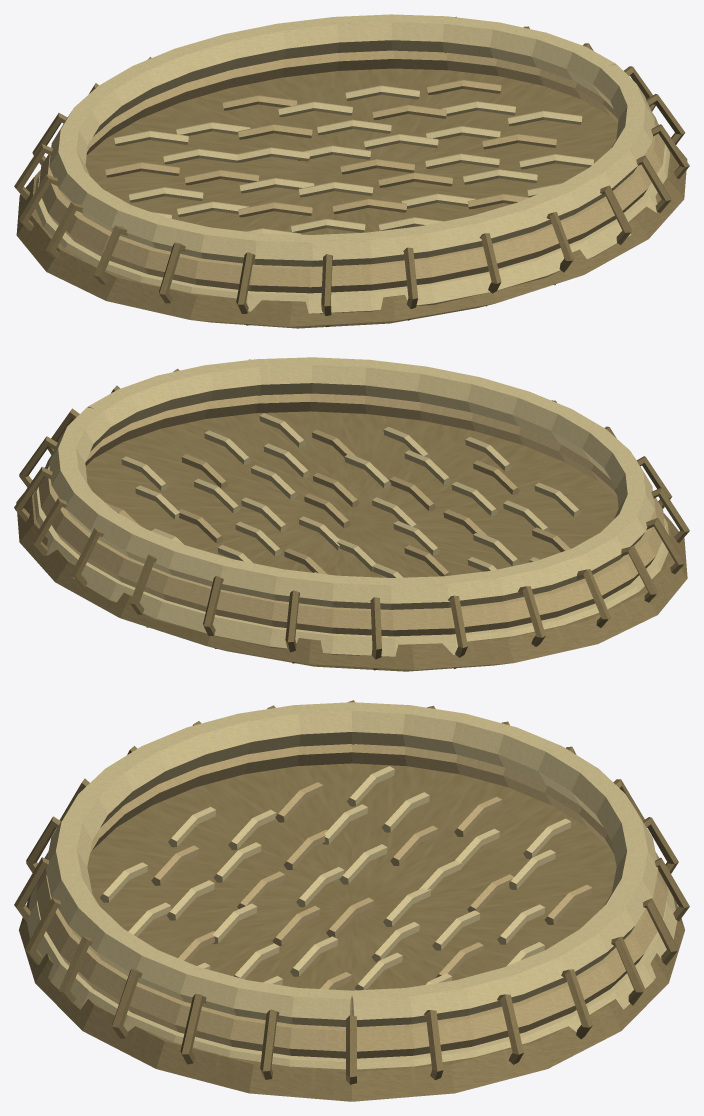
The model's file is yukkuri_nest.obj.
The picture shows the model from 3 angles, top to bottom: view 1: azimuth 30°, elevation 25°; view 2: azimuth 150°, elevation 25°; view 3: azimuth 270°, elevation 25°; orthographic projection. The views are drawn at different scales.
Parts seen in each view (by area): view 1: yukkuri_nest; view 2: yukkuri_nest; view 3: yukkuri_nest.
Part boxes in pixels (x1,y1,x2,y2): yukkuri_nest: [14, 14, 689, 328]; yukkuri_nest: [14, 357, 689, 671]; yukkuri_nest: [14, 700, 689, 1101].
Bounding box in the file's own units: 13.6 × 1.86 × 11.31.
Materials: 1 (1 with a texture image).
